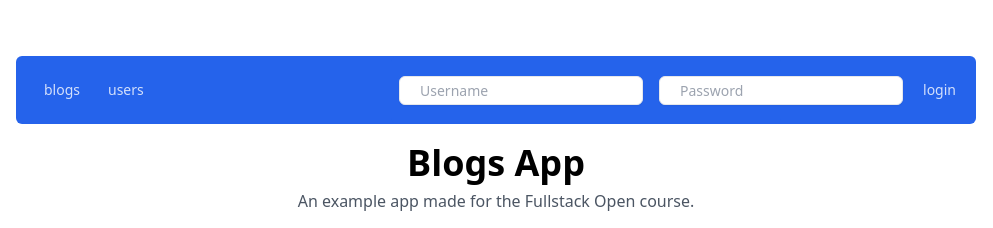
Test: Blog app › Login › fails with wrong credentials
Type "7Cedars" into the field with id "username" at (521, 91), box [399, 76, 643, 105]
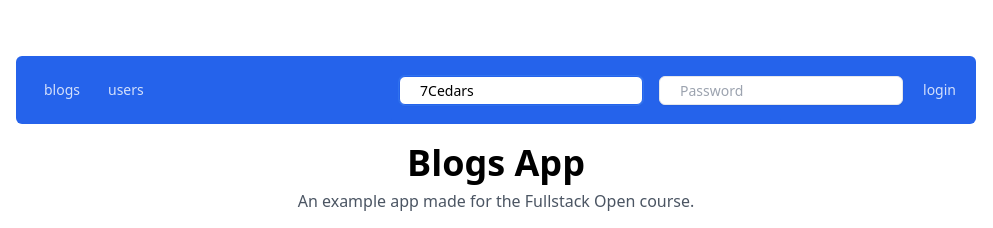
Type "WRONG PASSWORD" into the password field with placeholder "Password" at (781, 91), box [659, 76, 903, 105]
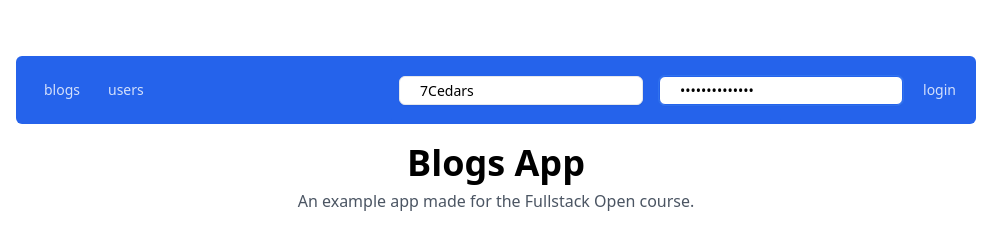
Click the button with id "login-button" at (940, 90), box [903, 56, 976, 124]
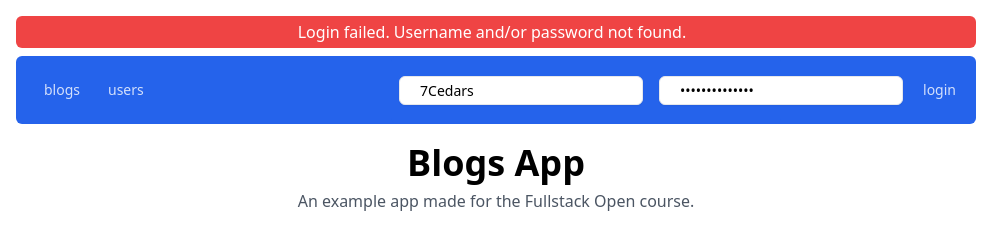
Result: the text "failed" is shown at [298, 21, 687, 43]
